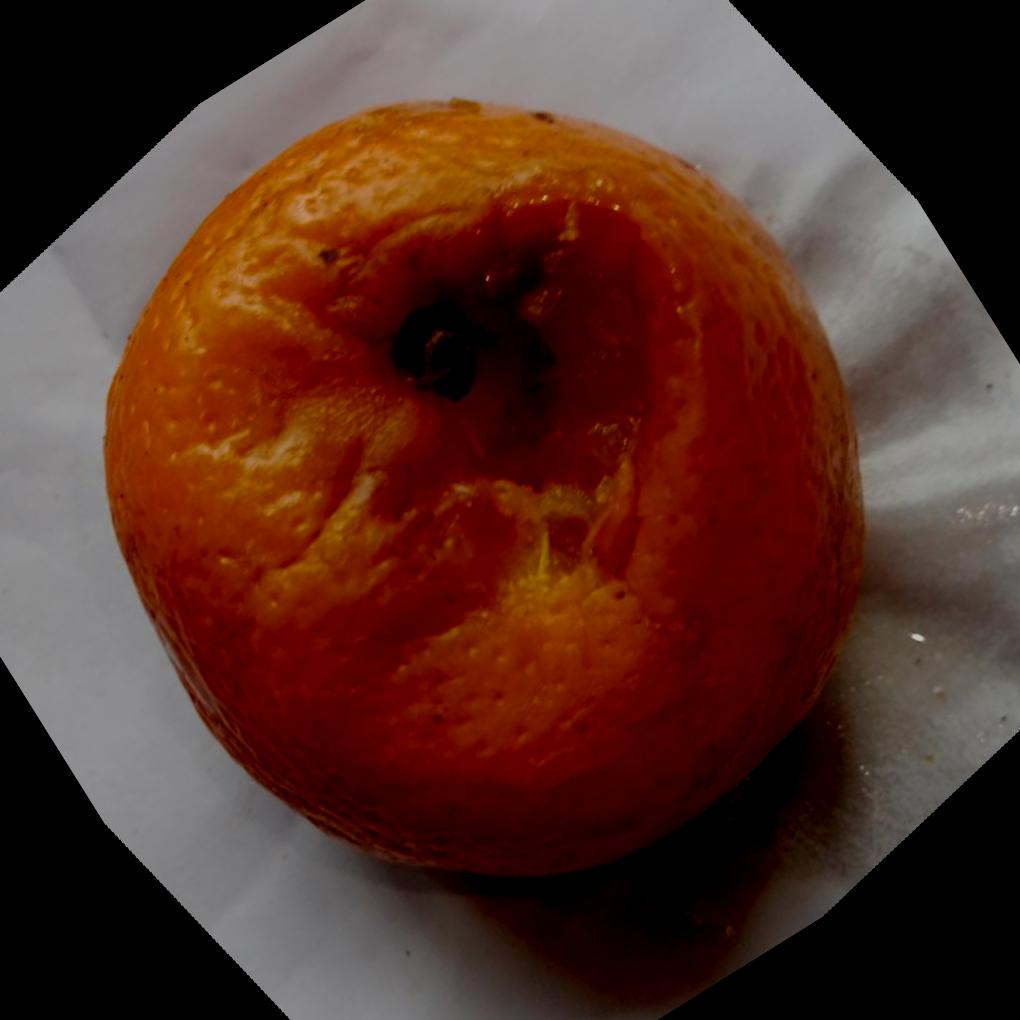FreshOrange: (101, 99, 870, 887)
